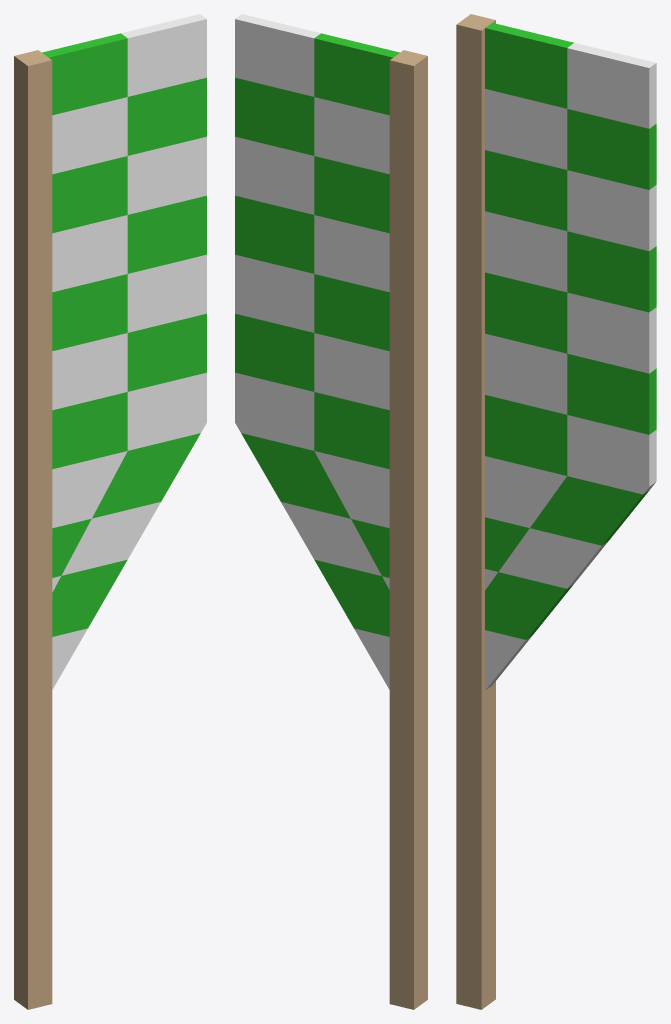
The model's file is Selección de nota.fbx.
3 views of the same model, side by side, from view 1: azimuth 30°, elevation 25°; view 2: azimuth 150°, elevation 25°; view 3: azimuth 330°, elevation 25° (orthographic). The views are drawn at different scales.
Visible parts, largest first — view 1: Model; view 2: Model; view 3: Model.
Part boxes in pixels (bbox=[...]): Model: bbox=[14, 14, 206, 1009]; Model: bbox=[235, 14, 427, 1009]; Model: bbox=[456, 14, 656, 1009].
Bounding box in the file's own units: 2.26 × 11.2 × 0.3.
